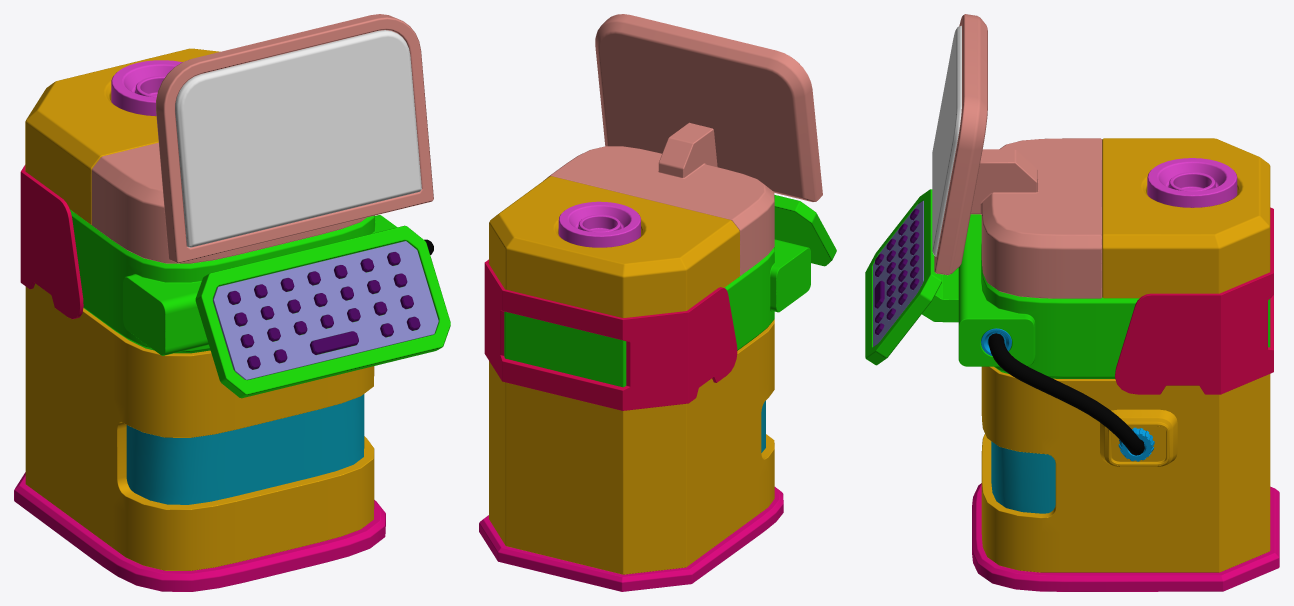
The model's file is Komputer_Main.fbx.
The picture shows the model from 3 angles, left to right: view 1: azimuth 30°, elevation 25°; view 2: azimuth 150°, elevation 25°; view 3: azimuth 270°, elevation 25°; orthographic projection. The views are drawn at different scales.
Visible parts, largest first — view 1: Komputer_mainbody, Komputer_screen; view 2: Komputer_mainbody; view 3: Komputer_mainbody, Komputer_screen.
Part boxes in pixels (x1,y1,x2,y2): Komputer_mainbody: (14, 14, 450, 591); Komputer_screen: (175, 30, 421, 247); Komputer_mainbody: (479, 14, 836, 591); Komputer_mainbody: (865, 14, 1279, 591); Komputer_screen: (932, 25, 961, 256).
Bounding box in the file's own units: 1.63 × 2.74 × 2.15.
